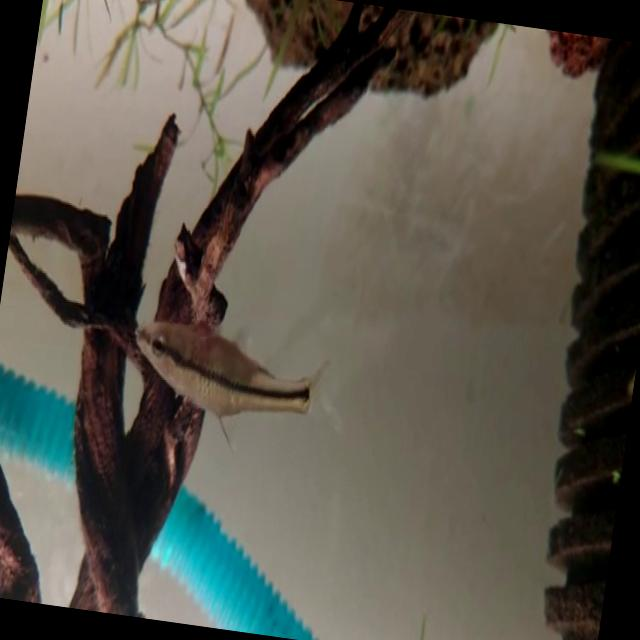Cakil Baligi: (120, 305, 350, 462)
